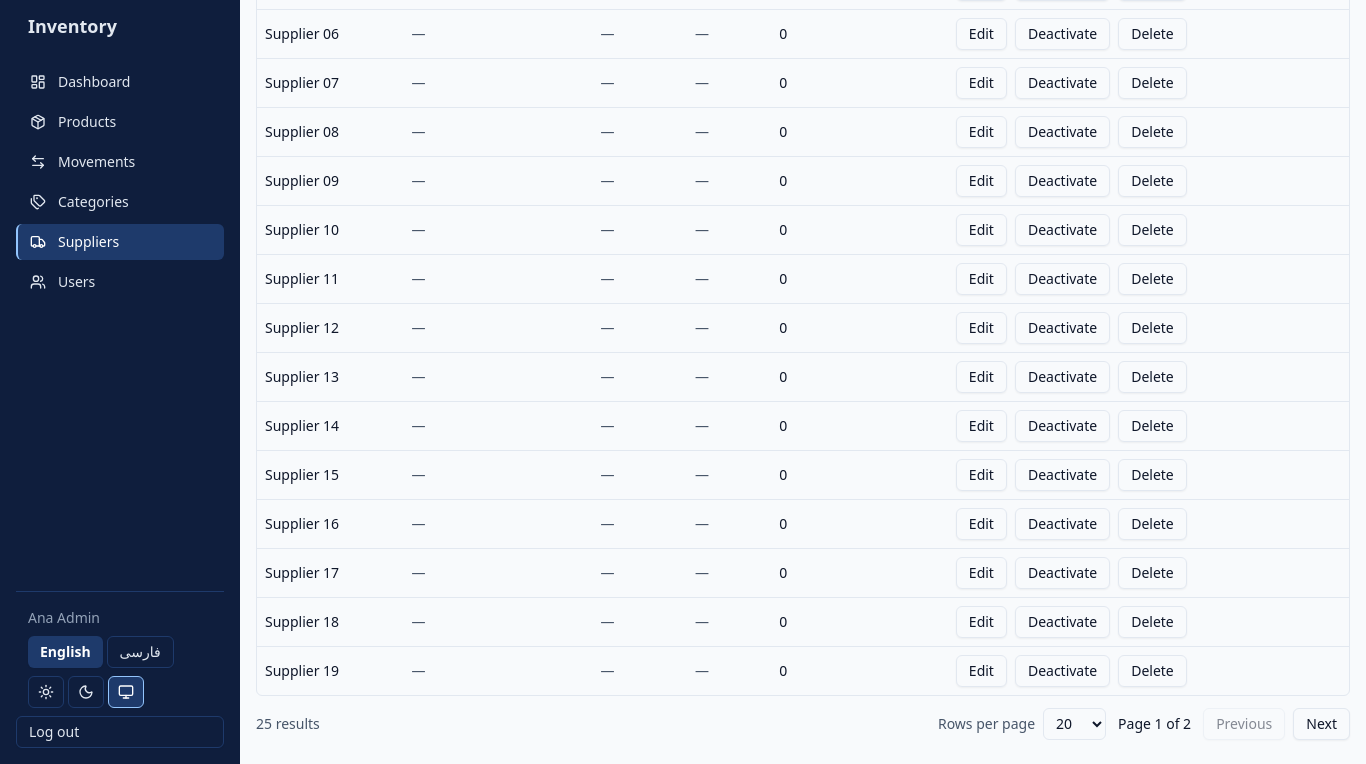
Scenario: Suppliers page › pages on the server
This screenshot has width=1366, height=764.
(page scrolled)
Step 1. Click the button "Next" → [1322, 724], box [1293,708,1350,740]
(page scrolled)
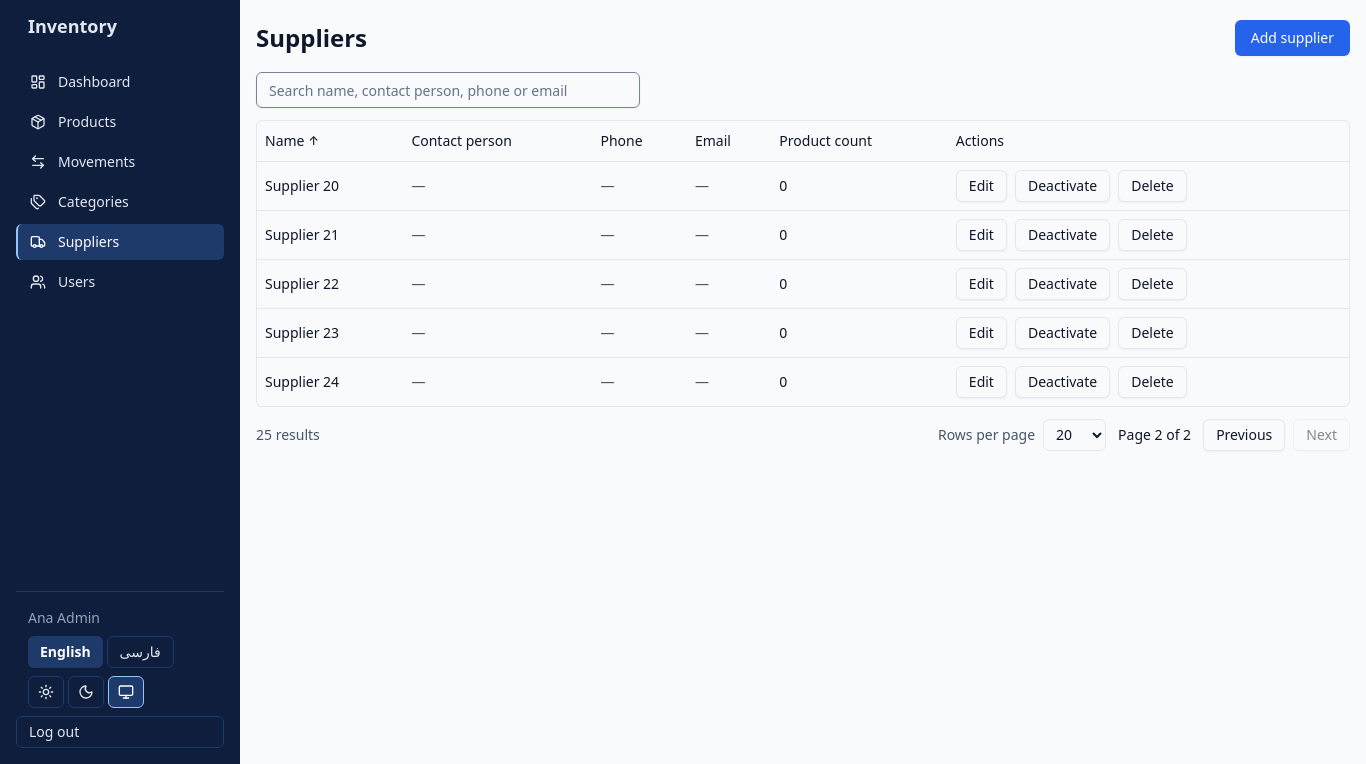
Check: the link "Supplier 20" is shown, box [265,176,339,196]
